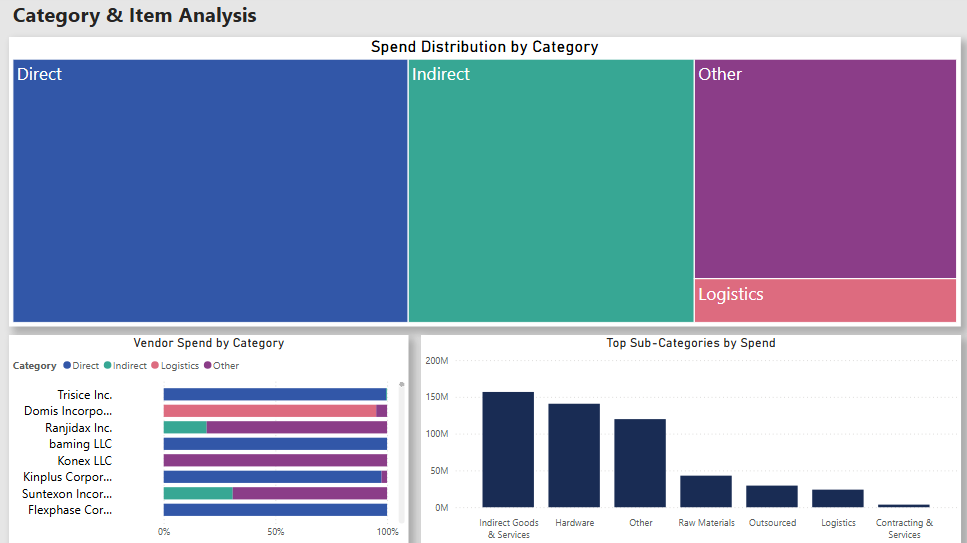

The dashboard page shown, as its layout file describes it:
{"tool":"powerbi","page":{"name":"Category & Item Analysis","canvas":[1280,720],"ordinal":2},"visuals":[{"type":"treemap","title":"Spend Distribution by Category","fields":{"Group":["Item.Category"],"Values":["Invoice Line Item.sum_top_category"]},"box":[17.3,53.3,1245.6,378.7],"z":0},{"type":"hundredPercentStackedBarChart","title":"Vendor Spend by Category","fields":{"Category":["Vendor.Vendor Name"],"Y":["Invoice Line Item.Total_Spend_USD"],"Series":["Item.Category"]},"box":[17.4,444,523.2,276.1],"z":1000},{"type":"clusteredColumnChart","title":"Top Sub-Categories by Spend","fields":{"Category":["Item.Sub Category"],"Y":["Invoice Line Item.sum_top_sub_category"]},"box":[555.8,443.5,707,276.5],"z":2000},{"type":"textbox","box":[17,0,388.8,53.7],"z":3000}]}

Visuals, with their boxes in screenshot pixels (x1, y1, x2, y2), scaled from the page's 1280x720 canvas onto the 967x543 screenshot:
"Spend Distribution by Category" treemap: detection(13, 40, 954, 326)
"Vendor Spend by Category" hundredPercentStackedBarChart: detection(13, 335, 408, 542)
"Top Sub-Categories by Spend" clusteredColumnChart: detection(420, 334, 954, 542)
textbox: detection(13, 0, 307, 40)
